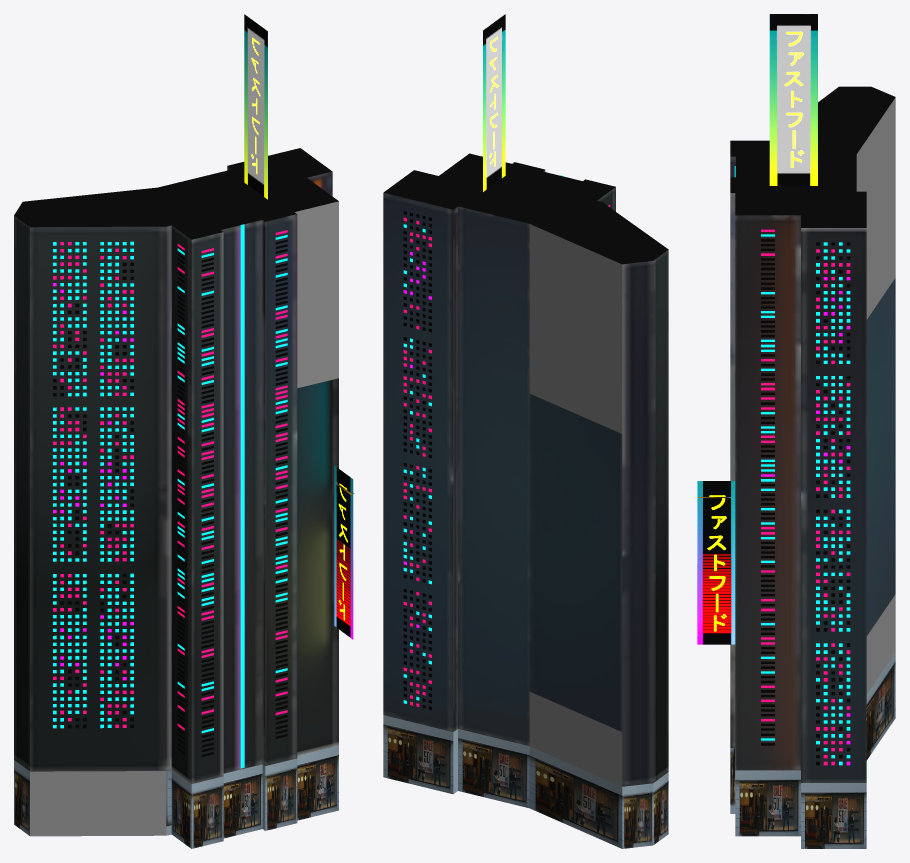
The model's file is BLD1310018.fbx.
3 renders of one model, left to right at view 1: azimuth 30°, elevation 25°; view 2: azimuth 150°, elevation 25°; view 3: azimuth 270°, elevation 25°, orthographic. The views are drawn at different scales.
Parts seen in each view (by area): view 1: smBLD1310018; view 2: smBLD1310018; view 3: smBLD1310018.
Boxes of the visible parts, x1,y1,x2,y2 form: smBLD1310018: [14, 14, 354, 848]; smBLD1310018: [383, 14, 668, 848]; smBLD1310018: [697, 14, 895, 848].
Size of the model in its own units: 1457 by 3817 by 864.
4 materials, 2 textured.
